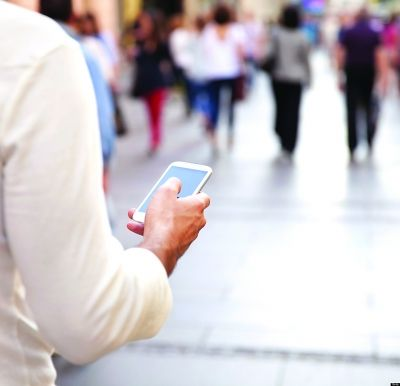reading: (125, 157, 218, 264)
